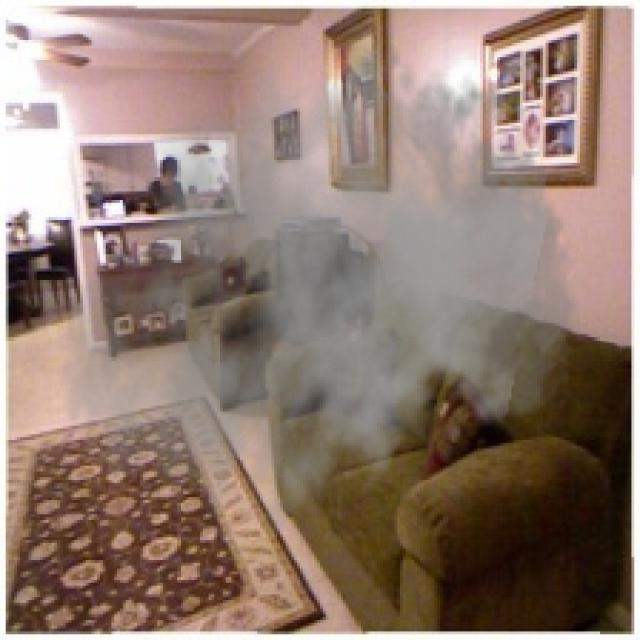smoke: (57, 23, 589, 557)
